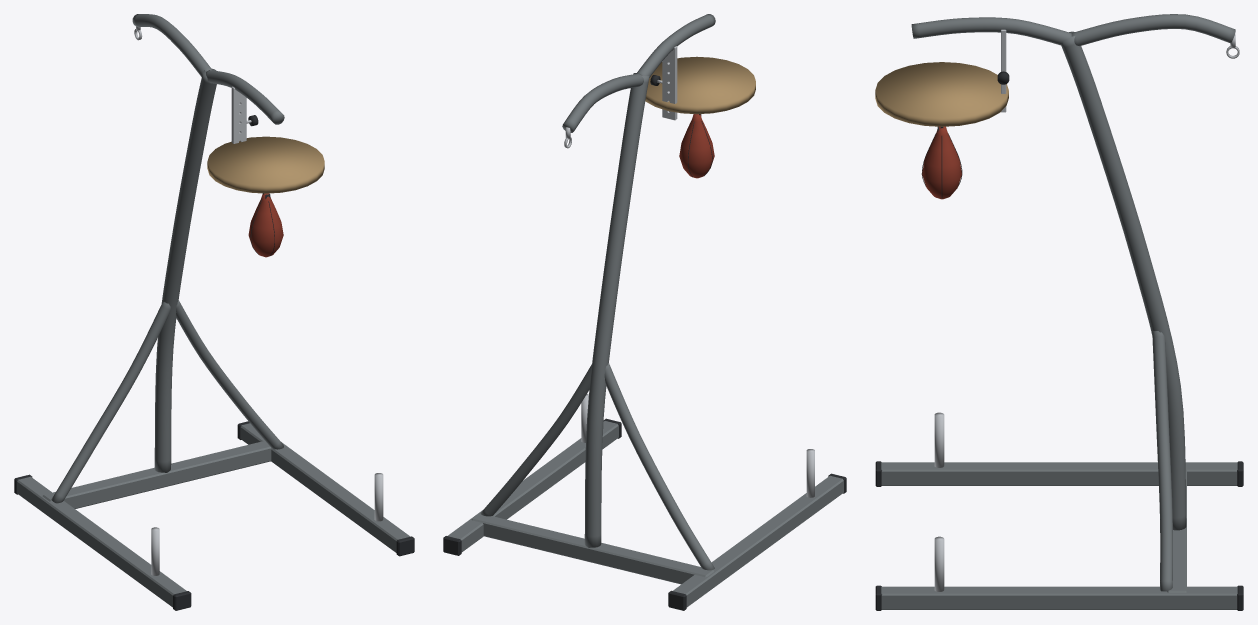
File: full.glb
3 views of the same model, side by side, from view 1: azimuth 30°, elevation 25°; view 2: azimuth 150°, elevation 25°; view 3: azimuth 270°, elevation 25° (orthographic). The views are drawn at different scales.
Visible parts, largest first — view 1: Tall curved central column, Horizontal round speed platform, Rear Ubase crossfoot, Long Ubase foot -1, Long Ubase foot 1, Curved lower brace -1, Curved lower brace 1, Pear speedbag closed body, Upper rear curved arm, Upper forward curved arm, Perforated height adjustment strip; view 2: Tall curved central column, Rear Ubase crossfoot, Horizontal round speed platform, Long Ubase foot -1, Long Ubase foot 1, Curved lower brace -1, Curved lower brace 1, Pear speedbag closed body, Upper rear curved arm, Upper forward curved arm, Perforated height adjustment strip; view 3: Tall curved central column, Long Ubase foot 1, Long Ubase foot -1, Horizontal round speed platform, Curved lower brace 1, Upper rear curved arm, Upper forward curved arm, Pear speedbag closed body, Rear Ubase crossfoot, Vertical weight peg -1, Vertical weight peg 1.
Boxes of the visible parts, x1,y1,x2,y2 form: Tall curved central column: (154, 68, 216, 472); Horizontal round speed platform: (207, 136, 324, 193); Rear Ubase crossfoot: (42, 441, 271, 508); Long Ubase foot -1: (17, 476, 186, 607); Long Ubase foot 1: (240, 423, 409, 552); Curved lower brace -1: (51, 302, 170, 503); Curved lower brace 1: (176, 300, 283, 449); Pear speedbag closed body: (248, 193, 283, 257); Upper rear curved arm: (132, 14, 211, 76); Upper forward curved arm: (206, 70, 284, 124); Perforated height adjustment strip: (231, 86, 246, 143); Tall curved central column: (584, 73, 649, 547); Rear Ubase crossfoot: (471, 513, 713, 584); Horizontal round speed platform: (645, 56, 755, 114); Long Ubase foot -1: (673, 475, 843, 607); Long Ubase foot 1: (448, 421, 618, 552); Curved lower brace -1: (604, 363, 714, 570); Curved lower brace 1: (480, 364, 591, 516); Pear speedbag closed body: (679, 114, 714, 178); Upper rear curved arm: (562, 73, 643, 132); Upper forward curved arm: (636, 14, 715, 77); Perforated height adjustment strip: (662, 46, 677, 120); Tall curved central column: (1061, 31, 1186, 530); Long Ubase foot 1: (881, 586, 1237, 609); Long Ubase foot -1: (881, 462, 1237, 485); Horizontal round speed platform: (875, 62, 1008, 126); Curved lower brace 1: (1152, 331, 1172, 591); Upper rear curved arm: (1071, 14, 1235, 46); Upper forward curved arm: (911, 17, 1071, 45); Pear speedbag closed body: (922, 126, 961, 199); Rear Ubase crossfoot: (1167, 463, 1186, 592); Vertical weight peg -1: (934, 412, 944, 467); Vertical weight peg 1: (934, 536, 944, 591).
Bounding box in the file's own units: 1.18 × 2.19 × 1.38.
